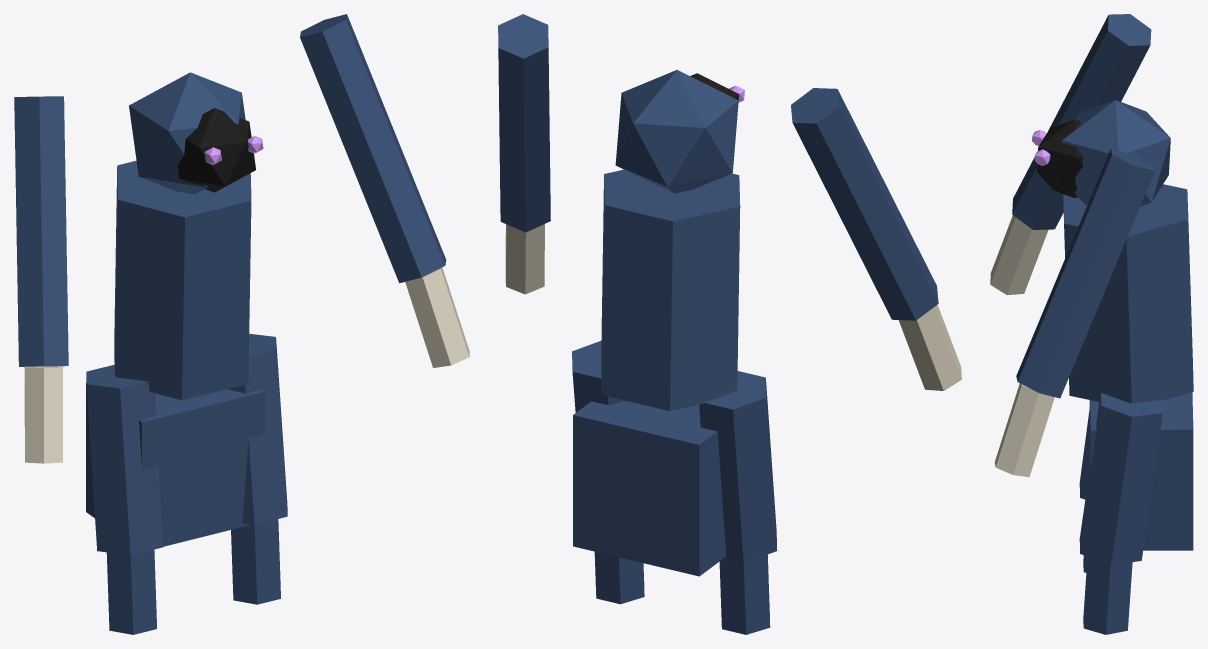
The model's file is npcpose_wraith_idle_00.glb.
3 views of the same model, side by side, from view 1: azimuth 30°, elevation 25°; view 2: azimuth 150°, elevation 25°; view 3: azimuth 270°, elevation 25° (orthographic). The views are drawn at different scales.
Parts seen in each view (by area): view 1: npcpose; view 2: npcpose; view 3: npcpose.
Boxes of the visible parts, bbox=[...] form: npcpose: bbox=[14, 14, 469, 634]; npcpose: bbox=[498, 14, 961, 634]; npcpose: bbox=[990, 14, 1193, 634].
Size of the model in its own units: 0.9387 by 1.1 by 0.397.
